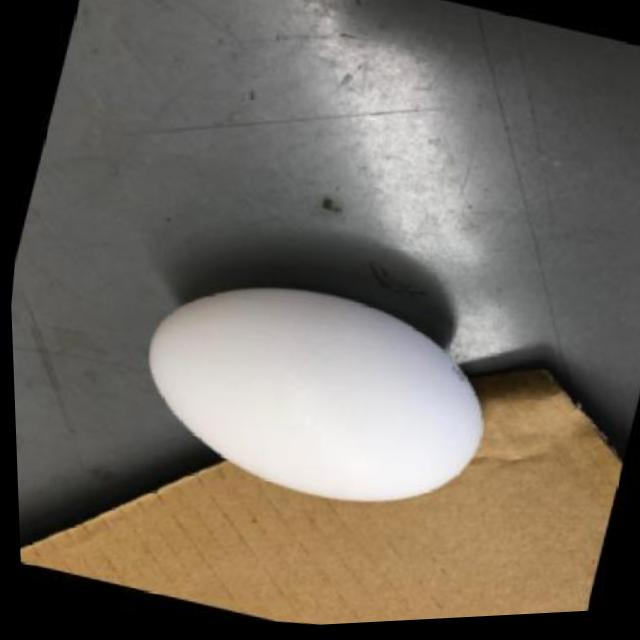egg: (122, 260, 503, 536)
